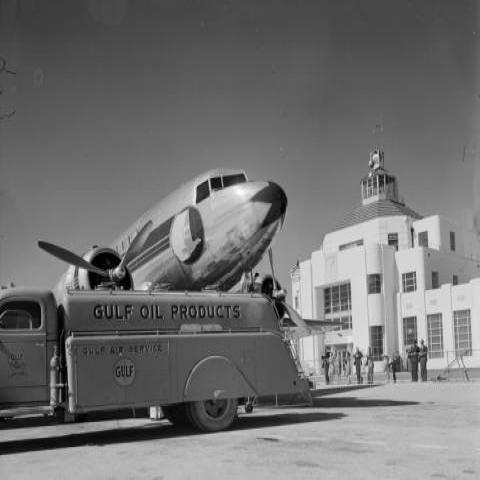truck: (0, 288, 311, 431)
